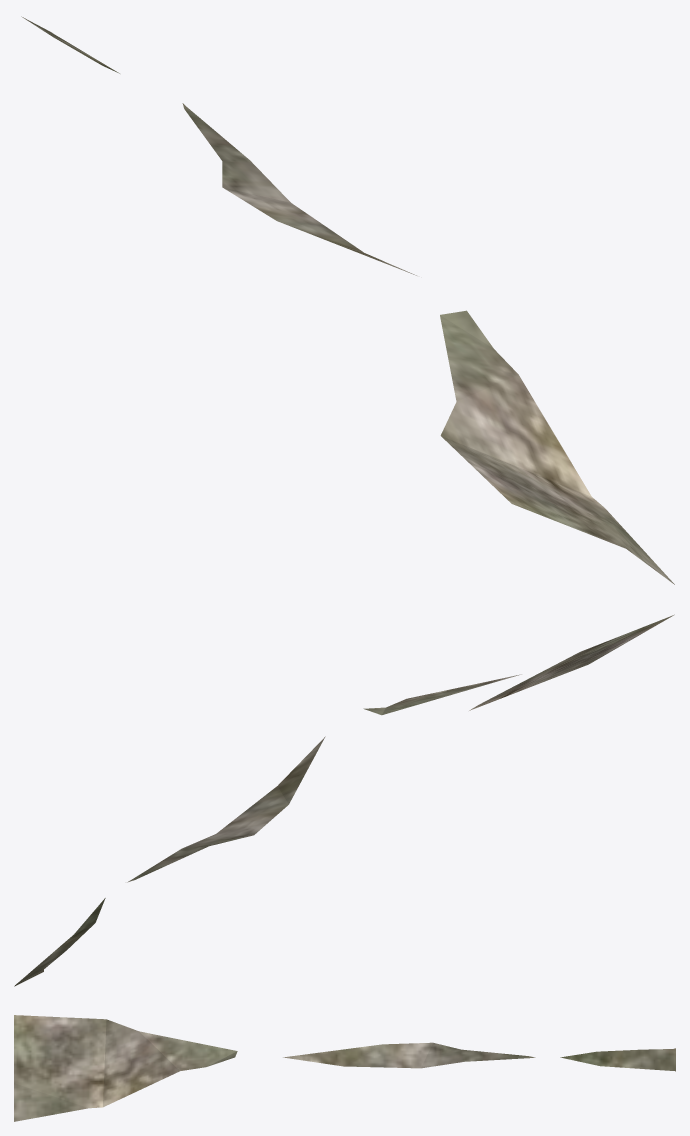
The picture shows the model from 3 angles, top to bottom: view 1: azimuth 30°, elevation 25°; view 2: azimuth 150°, elevation 25°; view 3: azimuth 270°, elevation 25°; orthographic projection. The views are drawn at different scales.
Size of the model in its own units: 0.447 by 0.3171 by 2.95.
Materials: 1 (1 with a texture image).
